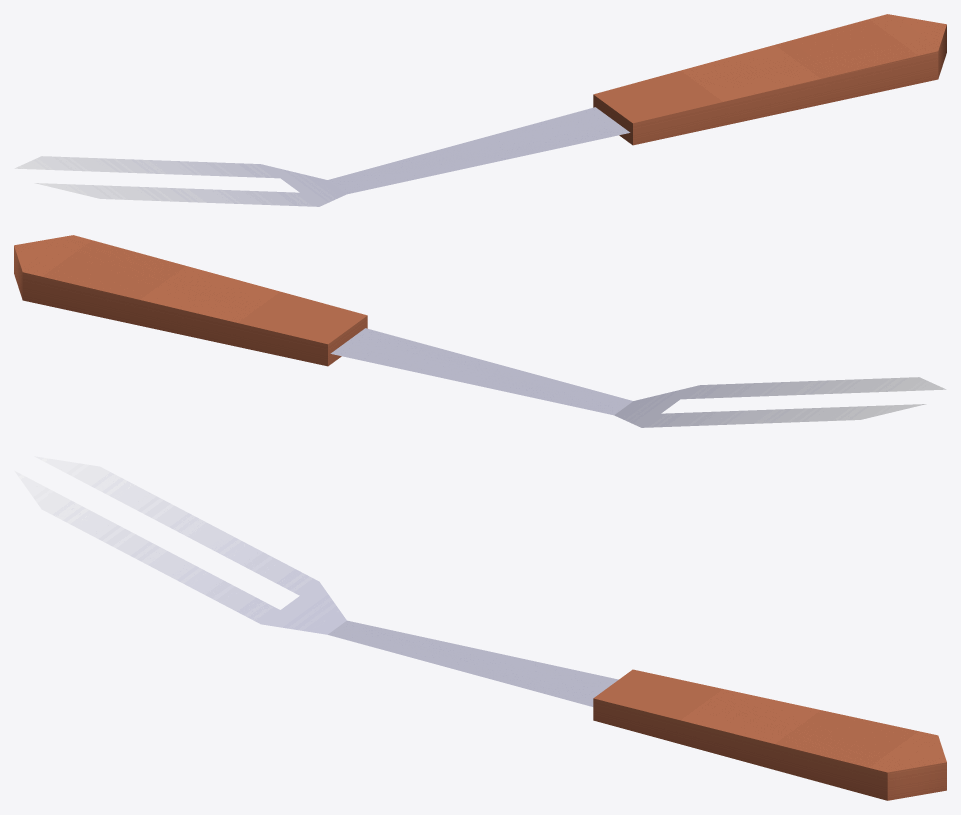
File: cooking_fork.glb
3 renders of one model, top to bottom at view 1: azimuth 30°, elevation 25°; view 2: azimuth 150°, elevation 25°; view 3: azimuth 330°, elevation 25°, orthographic.
Parts seen in each view (by area): view 1: cooking-fork; view 2: cooking-fork; view 3: cooking-fork.
Part boxes in pixels (x1,y1,x2,y2): cooking-fork: (14,14,946,206); cooking-fork: (14,235,946,427); cooking-fork: (14,456,946,800).
Size of the model in its own units: 0.6827 by 0.0721 by 0.0749.
1 material, 1 textured.
